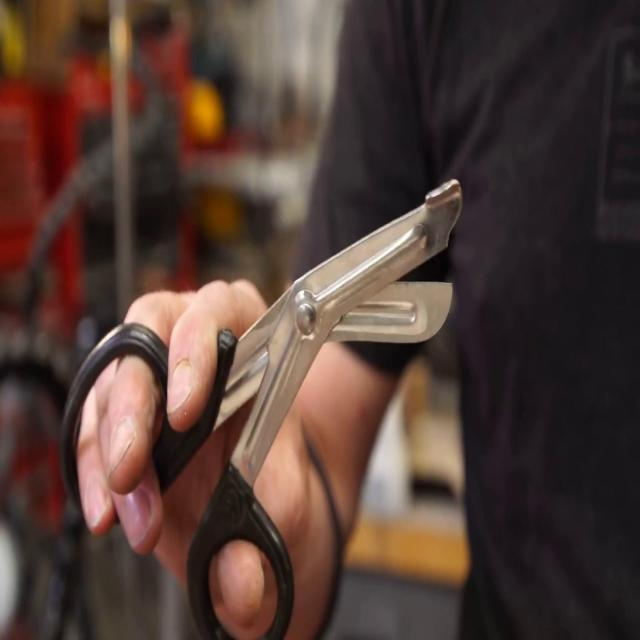scissor: (60, 178, 461, 640)
